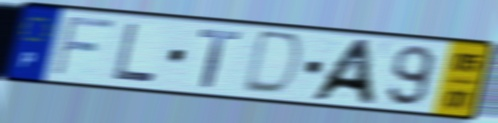9: (385, 44, 438, 109)
A: (305, 37, 380, 107)
D: (238, 28, 307, 99)
F: (49, 14, 119, 79)
L: (111, 21, 159, 84)
T: (197, 28, 243, 91)
